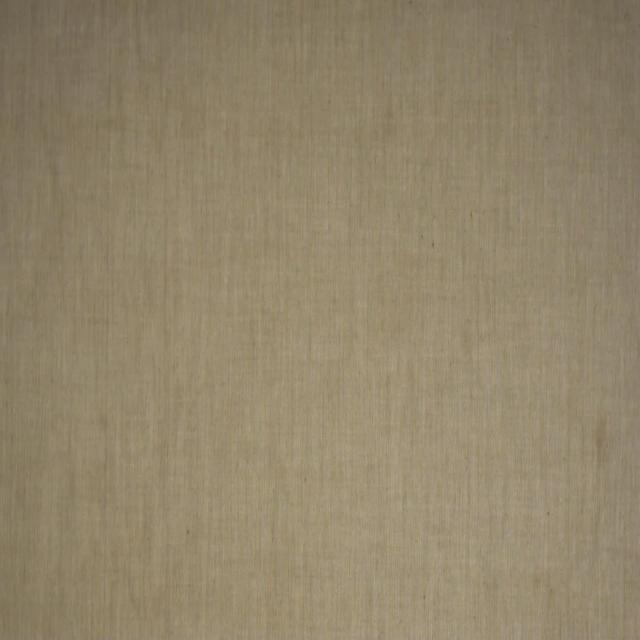dirty: (592, 412, 610, 459)
